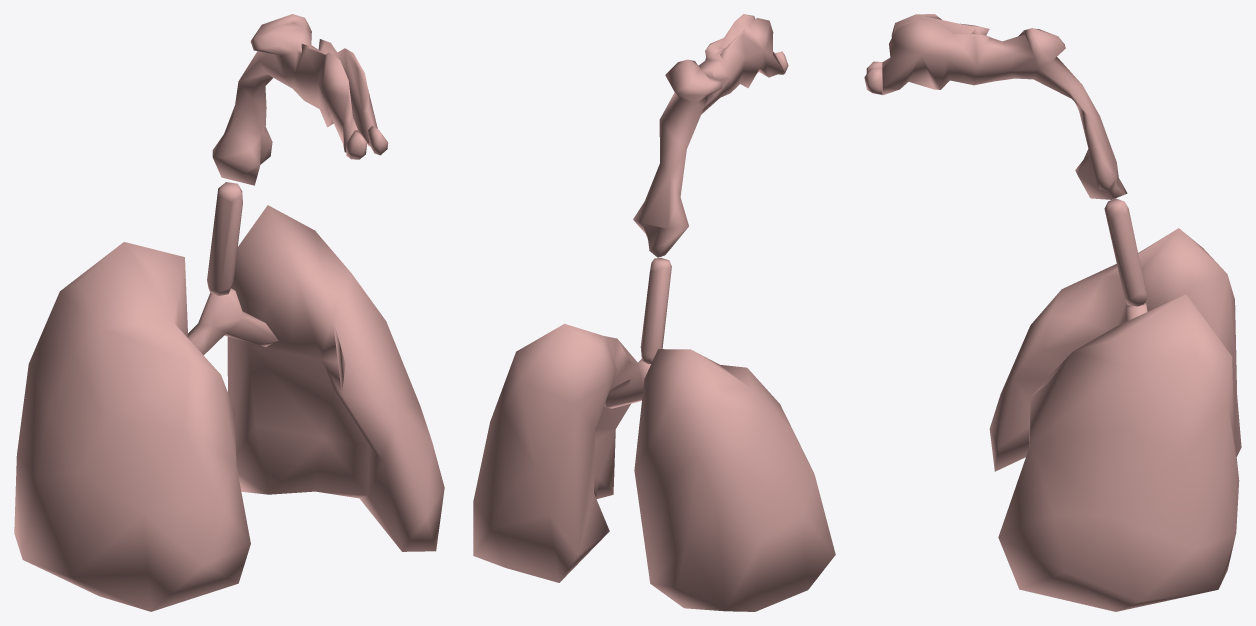
File: pediatric_infant_male.respiratory.LOD3.glb
The picture shows the model from 3 angles, left to right: view 1: azimuth 30°, elevation 25°; view 2: azimuth 150°, elevation 25°; view 3: azimuth 270°, elevation 25°; orthographic projection. The views are drawn at different scales.
Parts seen in each view (by area): view 1: PEDIATRIC.INFANT.MALE.RESPIRATORY.LUNG.R, PEDIATRIC.INFANT.MALE.RESPIRATORY.LUNG.L, PEDIATRIC.INFANT.MALE.RESPIRATORY.ET2, PEDIATRIC.INFANT.MALE.RESPIRATORY.BB1, PEDIATRIC.INFANT.MALE.RESPIRATORY.TRACHEA, PEDIATRIC.INFANT.MALE.RESPIRATORY.ET1; view 2: PEDIATRIC.INFANT.MALE.RESPIRATORY.LUNG.R, PEDIATRIC.INFANT.MALE.RESPIRATORY.LUNG.L, PEDIATRIC.INFANT.MALE.RESPIRATORY.ET2, PEDIATRIC.INFANT.MALE.RESPIRATORY.TRACHEA, PEDIATRIC.INFANT.MALE.RESPIRATORY.BB1; view 3: PEDIATRIC.INFANT.MALE.RESPIRATORY.LUNG.L, PEDIATRIC.INFANT.MALE.RESPIRATORY.LUNG.R, PEDIATRIC.INFANT.MALE.RESPIRATORY.ET2, PEDIATRIC.INFANT.MALE.RESPIRATORY.TRACHEA, PEDIATRIC.INFANT.MALE.RESPIRATORY.ET1.
Boxes of the visible parts, <box> form: PEDIATRIC.INFANT.MALE.RESPIRATORY.LUNG.R: <box>14,242,250,611</box>; PEDIATRIC.INFANT.MALE.RESPIRATORY.LUNG.L: <box>227,205,444,551</box>; PEDIATRIC.INFANT.MALE.RESPIRATORY.ET2: <box>212,14,377,185</box>; PEDIATRIC.INFANT.MALE.RESPIRATORY.BB1: <box>187,288,278,355</box>; PEDIATRIC.INFANT.MALE.RESPIRATORY.TRACHEA: <box>207,182,242,295</box>; PEDIATRIC.INFANT.MALE.RESPIRATORY.ET1: <box>346,125,388,159</box>; PEDIATRIC.INFANT.MALE.RESPIRATORY.LUNG.R: <box>634,349,835,611</box>; PEDIATRIC.INFANT.MALE.RESPIRATORY.LUNG.L: <box>473,323,637,582</box>; PEDIATRIC.INFANT.MALE.RESPIRATORY.ET2: <box>633,14,784,257</box>; PEDIATRIC.INFANT.MALE.RESPIRATORY.TRACHEA: <box>640,257,671,364</box>; PEDIATRIC.INFANT.MALE.RESPIRATORY.BB1: <box>604,359,650,408</box>; PEDIATRIC.INFANT.MALE.RESPIRATORY.LUNG.L: <box>998,294,1239,611</box>; PEDIATRIC.INFANT.MALE.RESPIRATORY.LUNG.R: <box>989,228,1241,471</box>; PEDIATRIC.INFANT.MALE.RESPIRATORY.ET2: <box>882,14,1127,199</box>; PEDIATRIC.INFANT.MALE.RESPIRATORY.TRACHEA: <box>1104,198,1146,306</box>; PEDIATRIC.INFANT.MALE.RESPIRATORY.ET1: <box>864,61,882,94</box>.
Size of the model in its own units: 0.1387 by 0.1922 by 0.1283.
